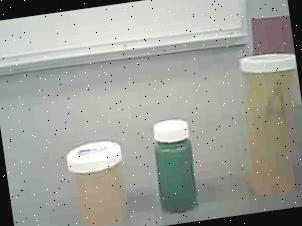Bottle A: (232, 44, 302, 206)
Bottle B: (57, 133, 142, 226)
Bottle C: (144, 114, 208, 223)
